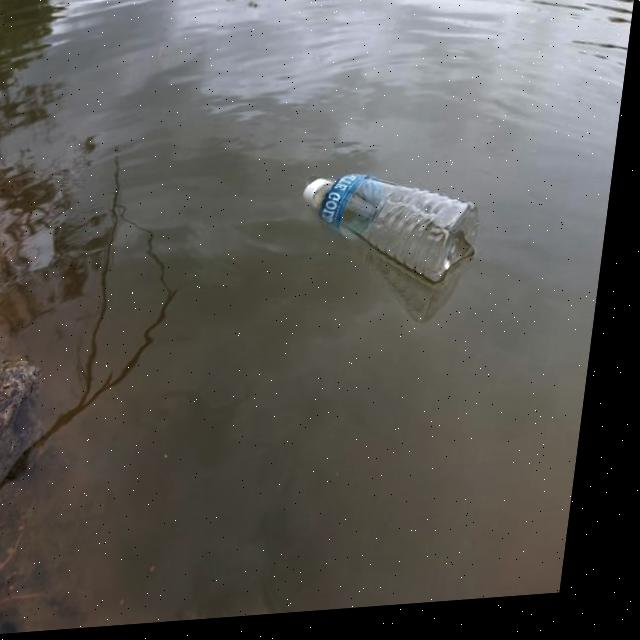waterbottle: (276, 168, 511, 311)
